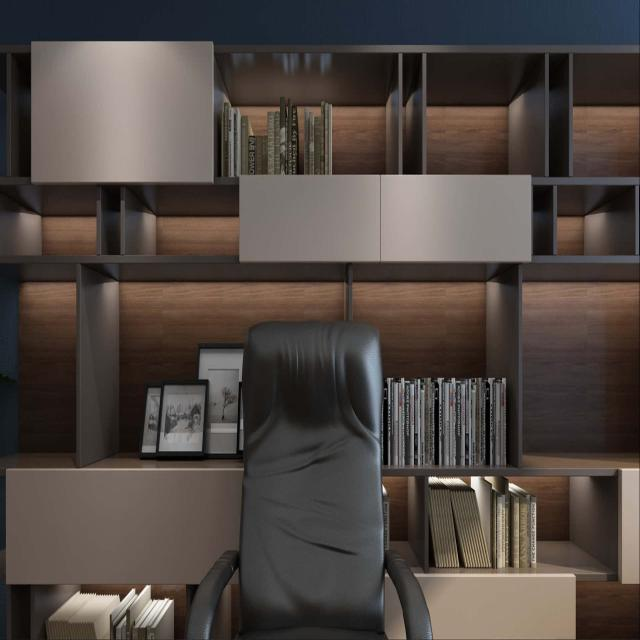chair: (184, 319, 434, 639)
